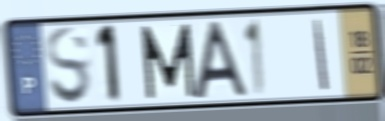1: (94, 22, 123, 107), (242, 15, 266, 100)
A: (190, 18, 251, 102)
I: (312, 17, 331, 93)
M: (139, 21, 199, 103)
S: (44, 24, 94, 108)
